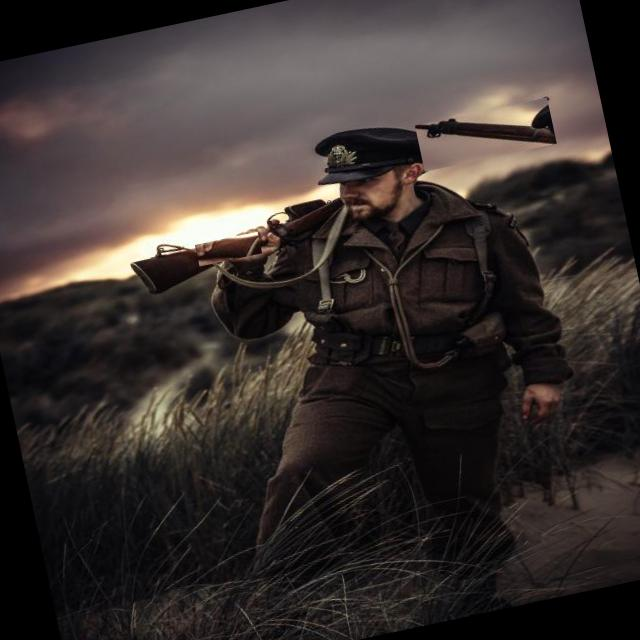Gun: (416, 118, 556, 143), (131, 249, 211, 292), (268, 199, 342, 244), (198, 236, 258, 257)
